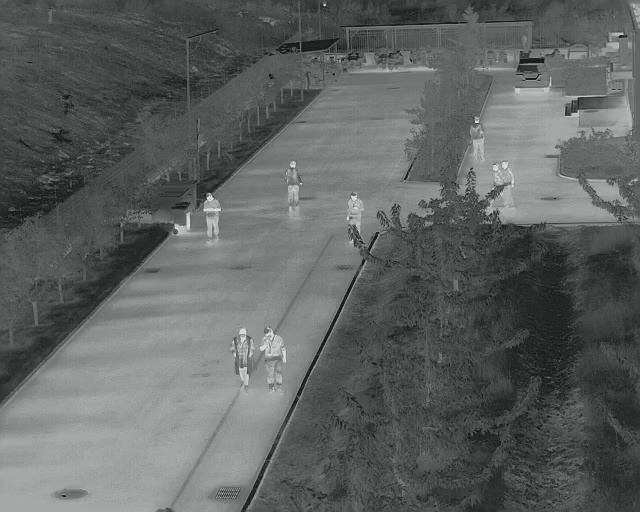person: (258, 325, 288, 396), (231, 325, 257, 394), (282, 159, 304, 215), (201, 192, 222, 246), (469, 114, 487, 164), (498, 160, 516, 209), (346, 189, 364, 228)
vehicle: (511, 57, 553, 96)
